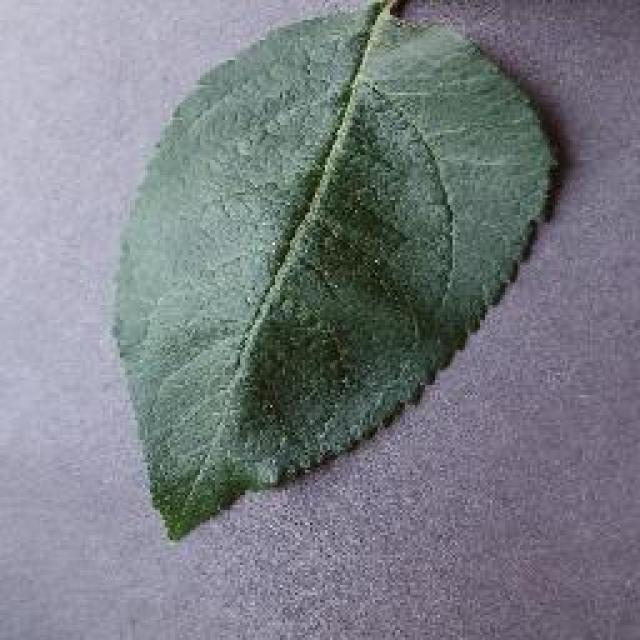apple healthy: (105, 0, 563, 540)
